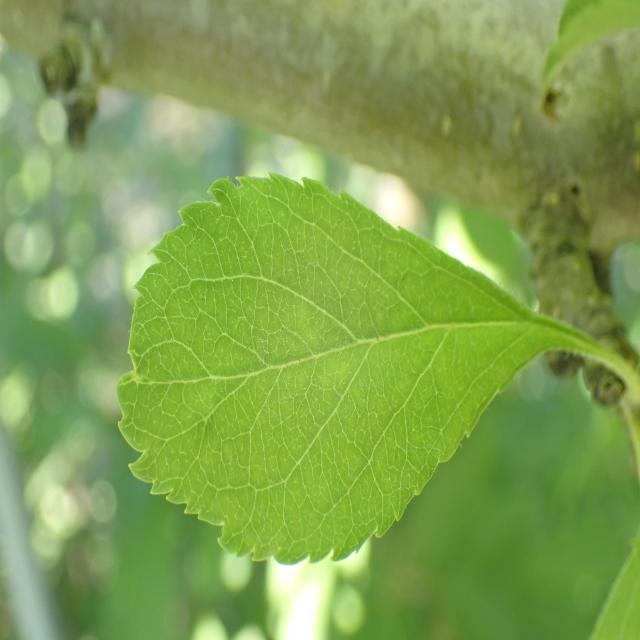healthy: (116, 172, 551, 565)
